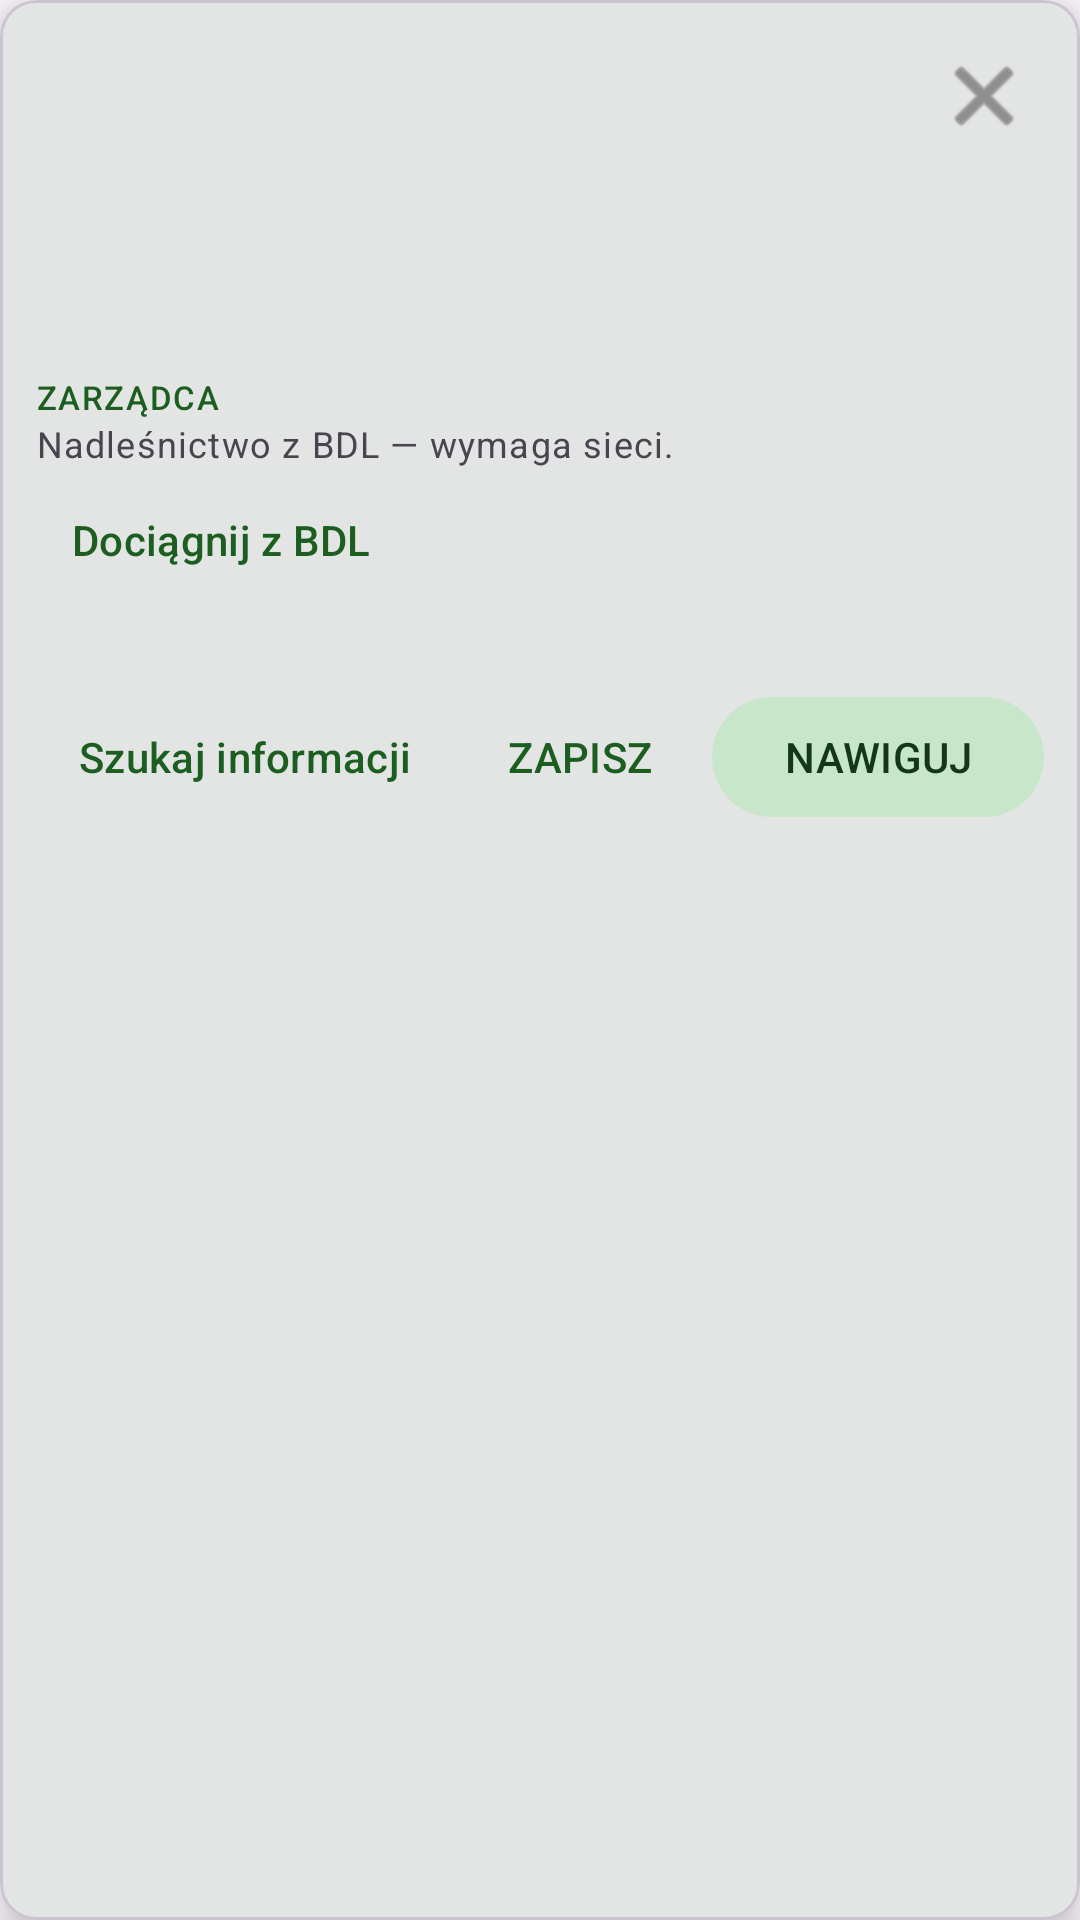

Where to tap for icons on this 1080w x 1920h app screen, as (x=x, y=y):
Zamknij kartę miejsca: (x=984, y=96)
